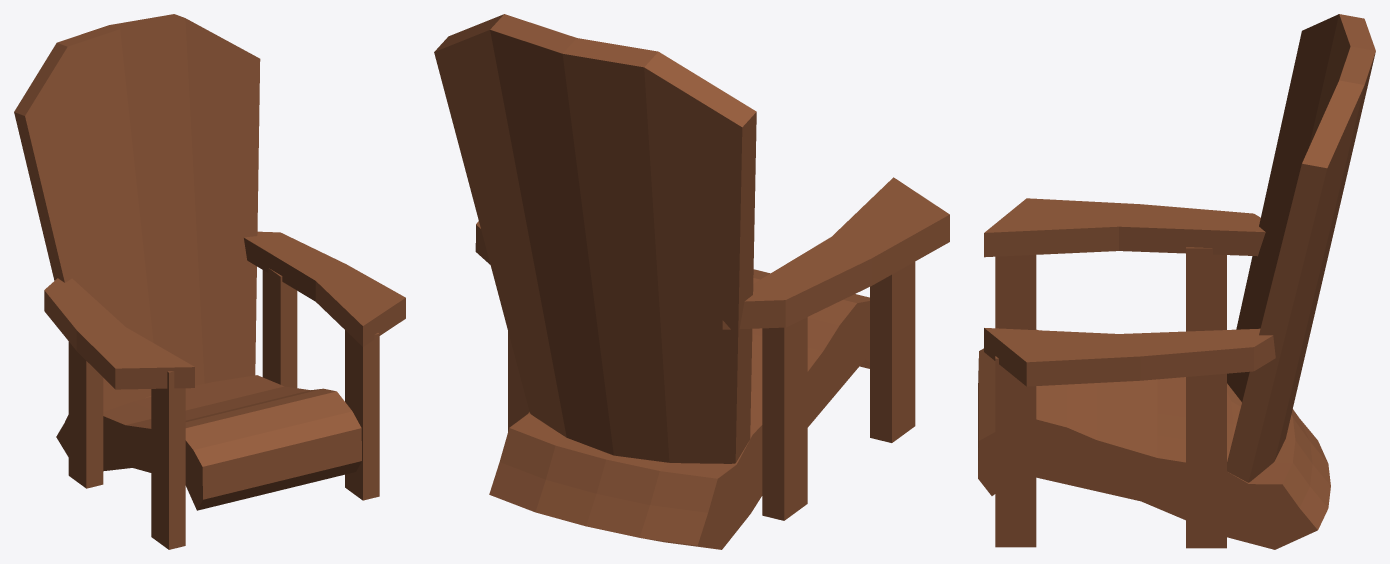
Rendered from chair.fbx.
3 renders of one model, left to right at view 1: azimuth 30°, elevation 25°; view 2: azimuth 150°, elevation 25°; view 3: azimuth 270°, elevation 25°, orthographic. The views are drawn at different scales.
Parts seen in each view (by area): view 1: Cube.016, Cube.011, Cube.018, Cube.017, Cube.013, Cube.012, Cube.015, Cube.014; view 2: Cube.016, Cube.011, Cube.017, Cube.015, Cube.013, Cube.014; view 3: Cube.016, Cube.011, Cube.018, Cube.017, Cube.012, Cube.014, Cube.015, Cube.013.
Boxes of the visible parts, box(x1,y1,x2,y2) form: Cube.016: box(14, 14, 260, 411); Cube.011: box(56, 375, 361, 510); Cube.018: box(243, 231, 405, 346); Cube.017: box(44, 278, 194, 389); Cube.013: box(151, 371, 185, 549); Cube.012: box(345, 330, 379, 500); Cube.015: box(68, 341, 103, 488); Cube.014: box(262, 268, 297, 387); Cube.016: box(434, 14, 756, 463); Cube.011: box(489, 269, 869, 549); Cube.017: box(722, 177, 949, 329); Cube.015: box(762, 317, 807, 520); Cube.013: box(870, 262, 915, 442); Cube.014: box(508, 331, 529, 431); Cube.016: box(1227, 14, 1375, 482); Cube.011: box(978, 329, 1330, 549); Cube.018: box(984, 328, 1275, 386); Cube.017: box(984, 198, 1265, 257); Cube.012: box(995, 356, 1036, 547); Cube.014: box(1186, 373, 1226, 548); Cube.015: box(1186, 247, 1226, 331); Cube.013: box(995, 255, 1036, 329).
Bounding box in the file's own units: 432 × 563 × 443.
